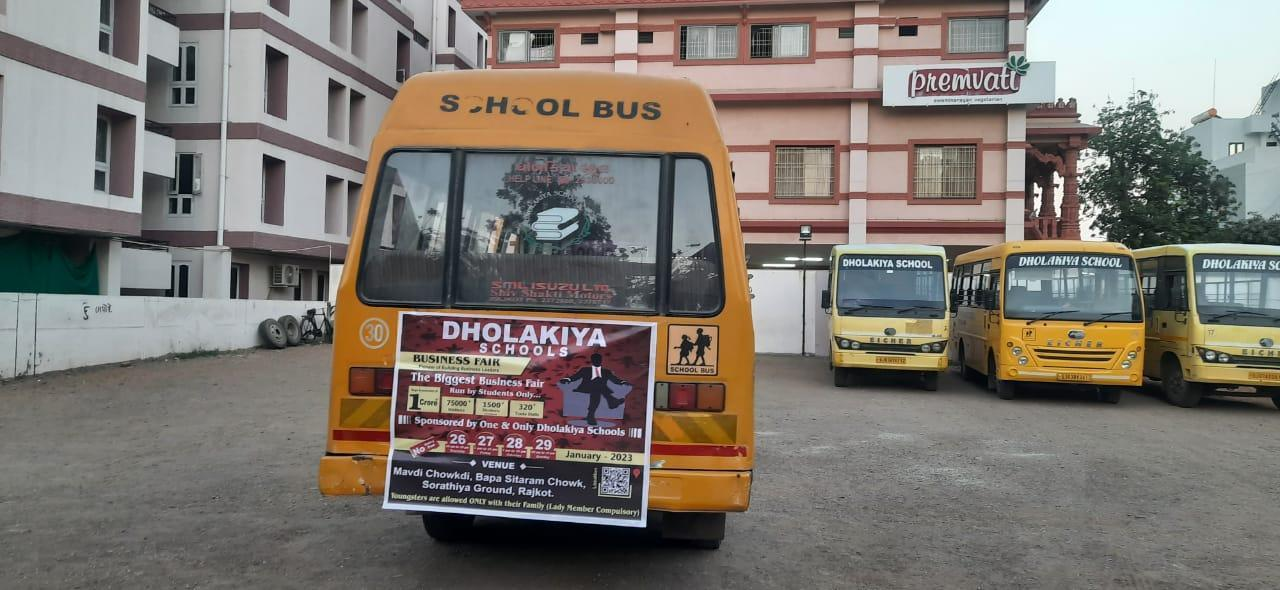Bus: (303, 49, 782, 565), (965, 238, 1148, 402), (823, 239, 962, 398), (1167, 239, 1280, 426)
